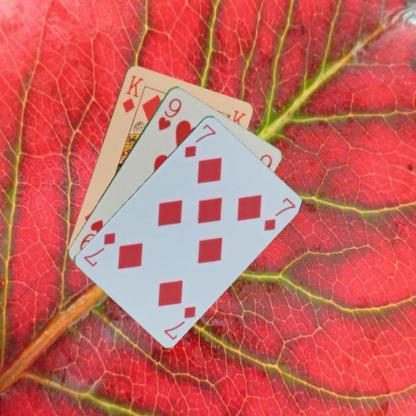7d: (161, 302, 197, 342), (182, 121, 218, 159)
9h: (154, 94, 184, 132)
Kd: (119, 72, 144, 113)
